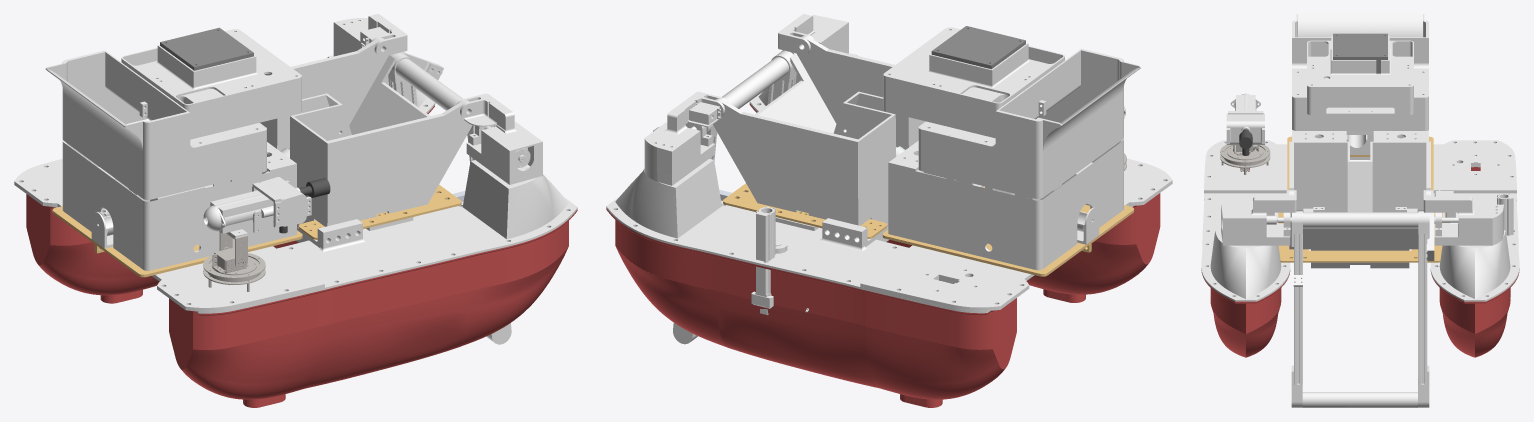
Rendered from homepage-assembly-boat.glb.
3 renders of one model, left to right at view 1: azimuth 30°, elevation 25°; view 2: azimuth 150°, elevation 25°; view 3: azimuth 270°, elevation 25°, orthographic. The views are drawn at different scales.
Parts seen in each view (by area): view 1: 大改版-1, 垃圾倾倒盒-1, 传送带-1; view 2: 大改版-1, 垃圾倾倒盒-1, 传送带-1; view 3: 大改版-1, 垃圾倾倒盒-1, 传送带-1.
Part boxes in pixels (x1,y1,x2,y2): 大改版-1: [14, 14, 577, 407]; 垃圾倾倒盒-1: [260, 37, 472, 242]; 传送带-1: [388, 52, 511, 344]; 大改版-1: [606, 14, 1172, 407]; 垃圾倾倒盒-1: [713, 35, 925, 241]; 传送带-1: [673, 50, 796, 344]; 大改版-1: [1201, 14, 1519, 357]; 垃圾倾倒盒-1: [1289, 141, 1430, 268]; 传送带-1: [1278, 211, 1429, 407].
Size of the model in its own units: 0.8411 by 0.6347 by 0.6965.
